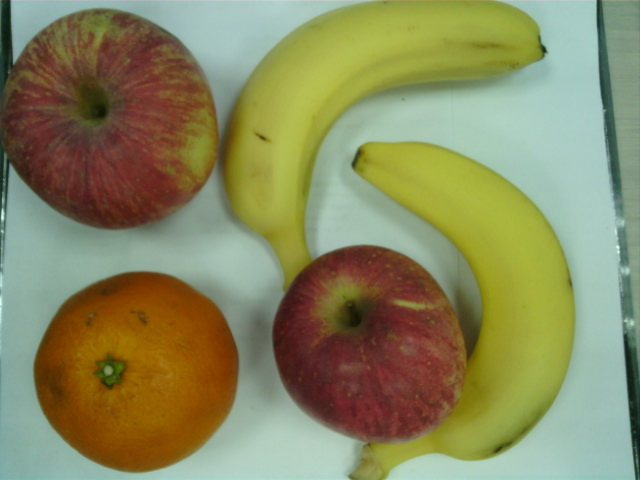normal_apple: (10, 9, 218, 228), (273, 245, 463, 445)
normal_banana: (229, 2, 551, 273), (354, 141, 574, 480)
normal_orange: (36, 272, 241, 474)
